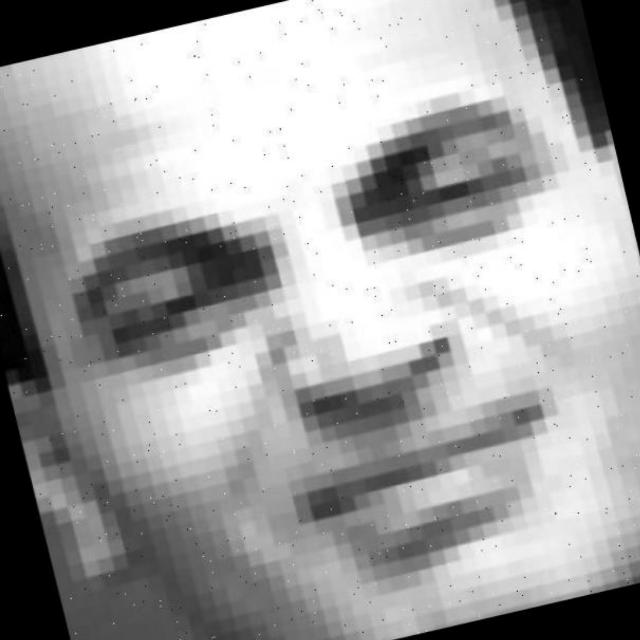Disgust: (0, 31, 640, 640)
